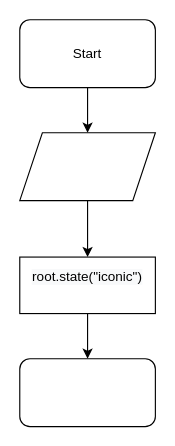
The diagram is 175 pixels wide and 446 high, and some of its shapes have lost their labels. Here are the shapes that lost their labels. From the top down, the centre of each, then its label:
At (x=87, y=166): "Button press: minimise".
At (x=87, y=392): "End".
